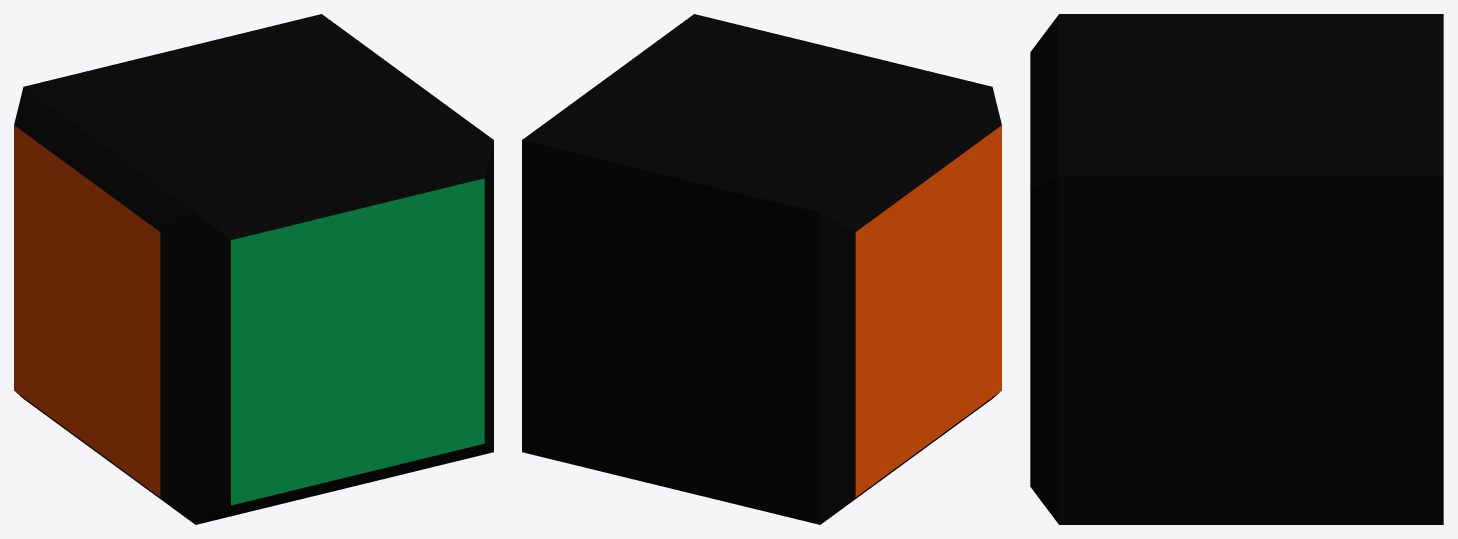
Rendered from rubiks_cube_6.glb.
3 renders of one model, left to right at view 1: azimuth 30°, elevation 25°; view 2: azimuth 150°, elevation 25°; view 3: azimuth 270°, elevation 25°, orthographic. The views are drawn at different scales.
Parts seen in each view (by area): view 1: Cube6.001; view 2: Cube6.001; view 3: Cube6.001.
Boxes of the visible parts, x1,y1,x2,y2 form: Cube6.001: (14,14,493,524); Cube6.001: (522,14,1001,524); Cube6.001: (1030,14,1443,524).
Bounding box in the file's own units: 2.15 × 2 × 2.15.
